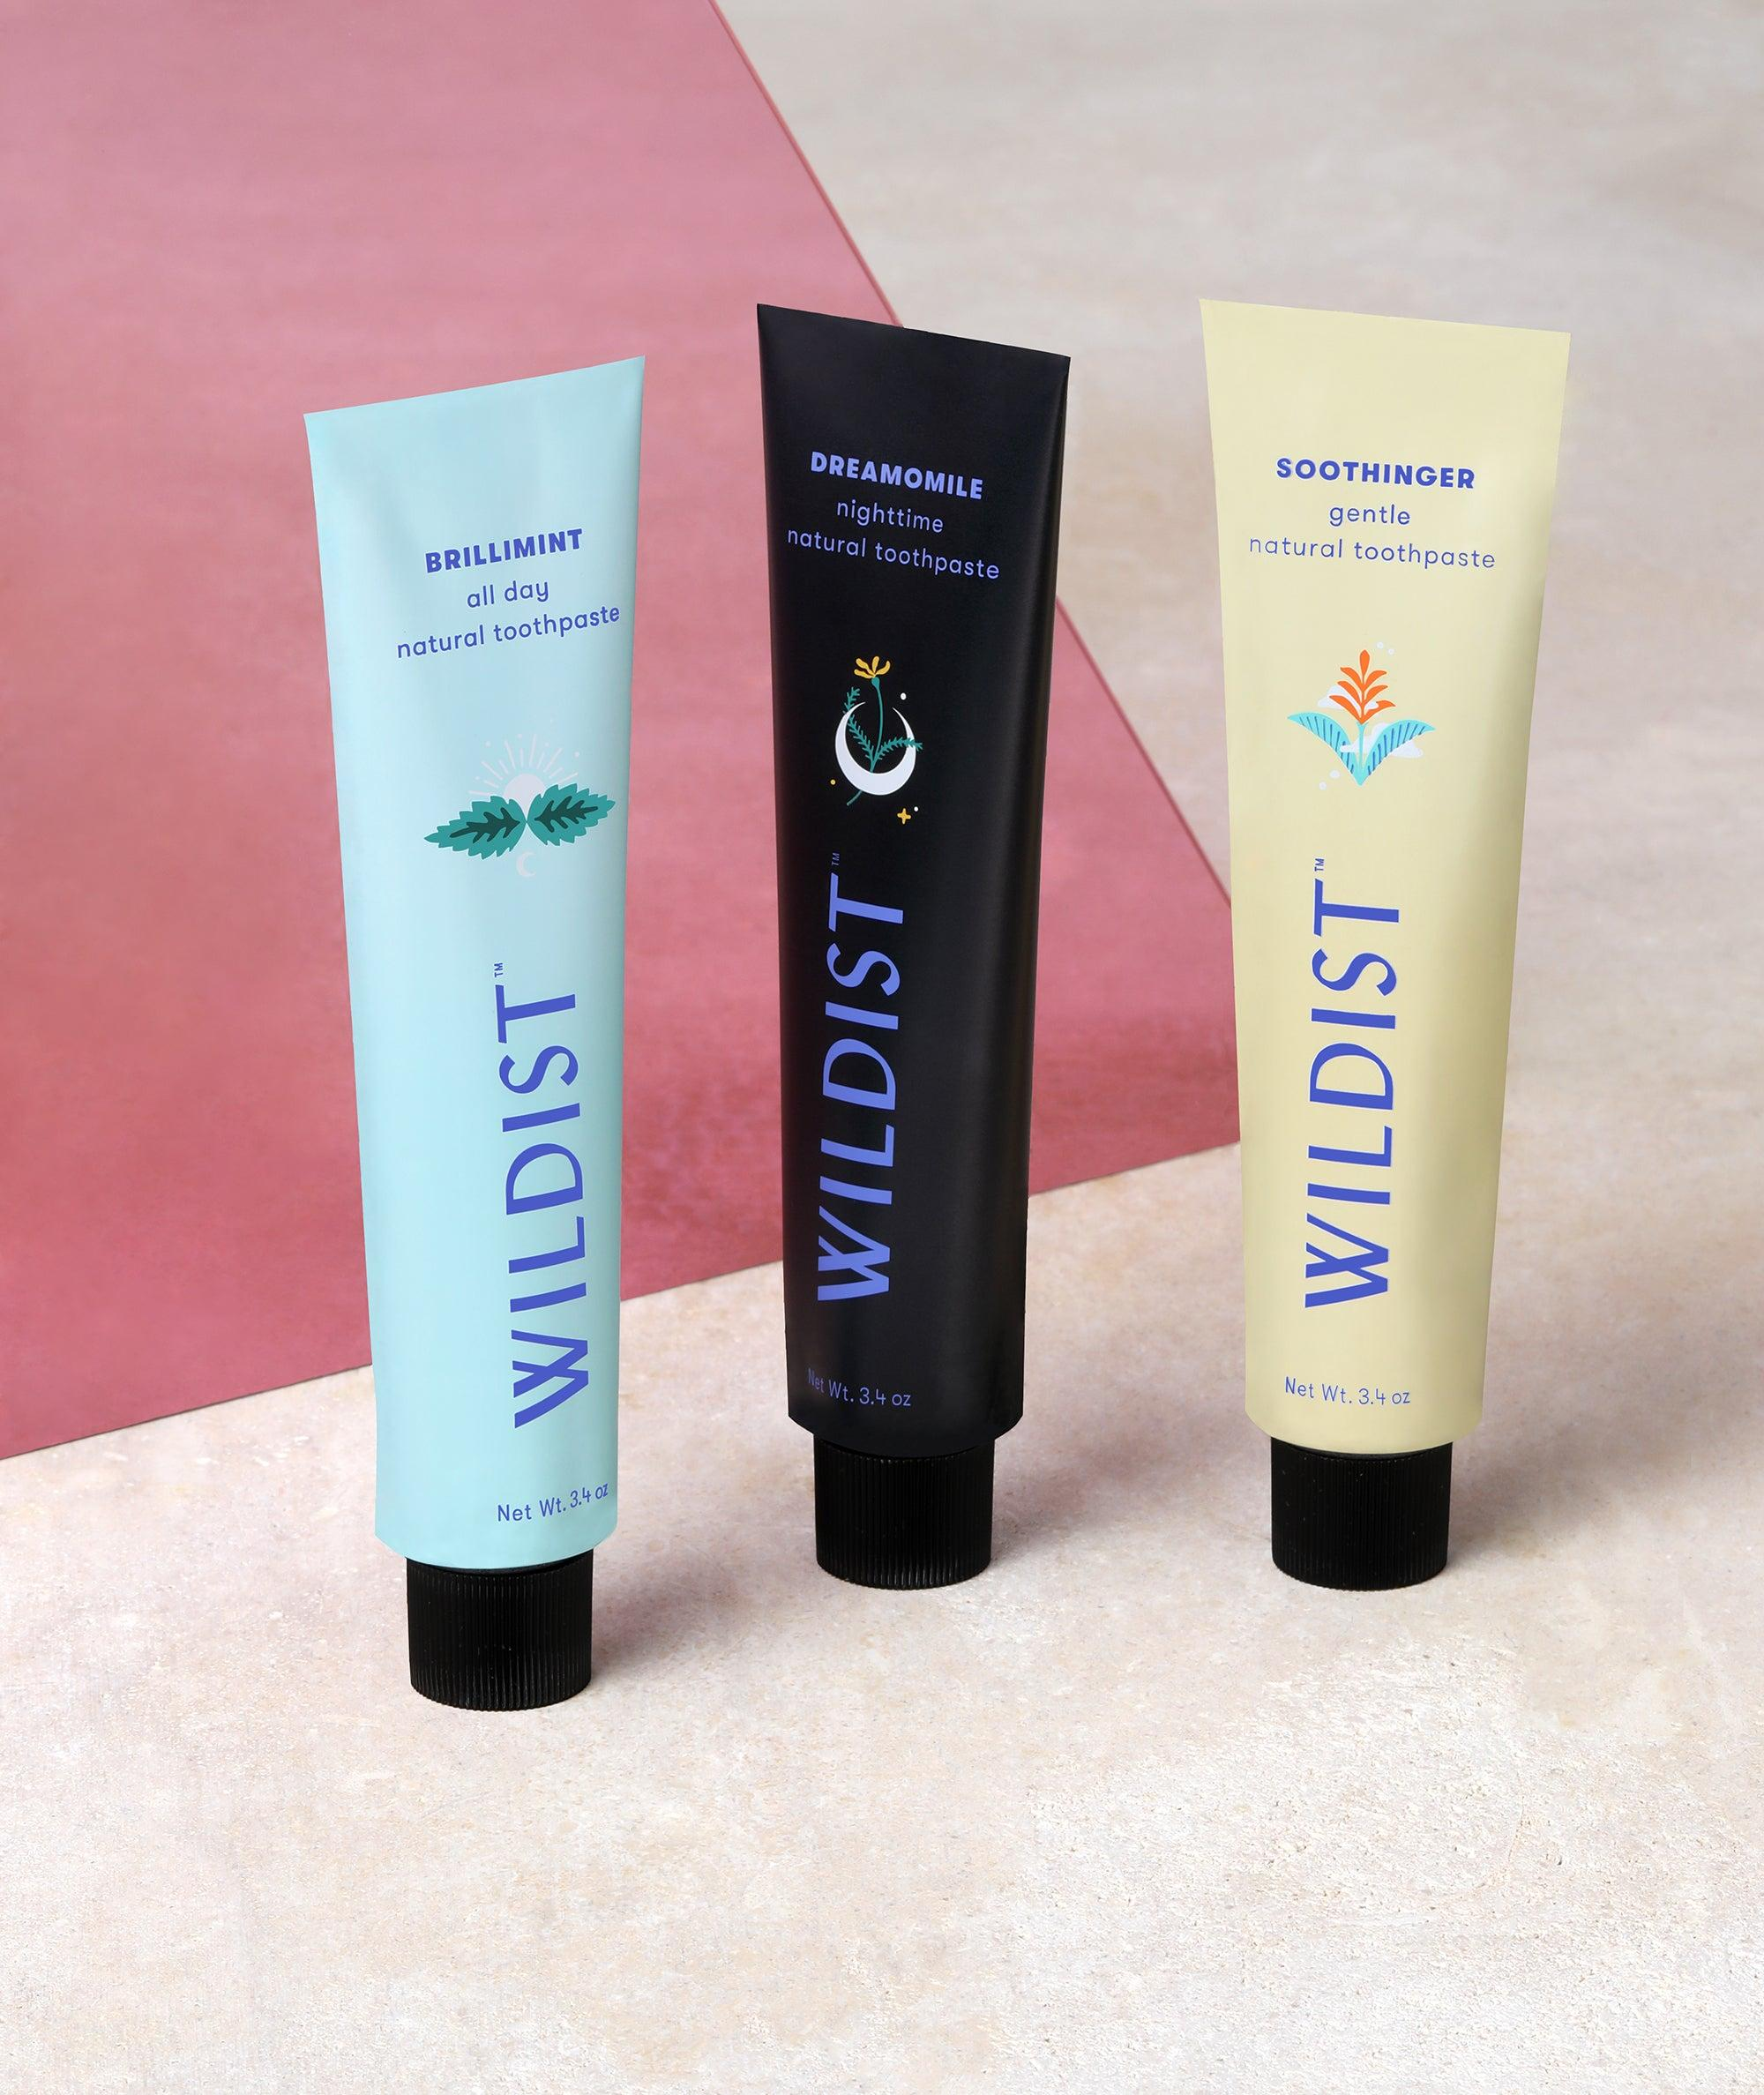toothpaste: (1178, 282, 1589, 1636), (296, 338, 642, 1727), (728, 292, 1083, 1605)
